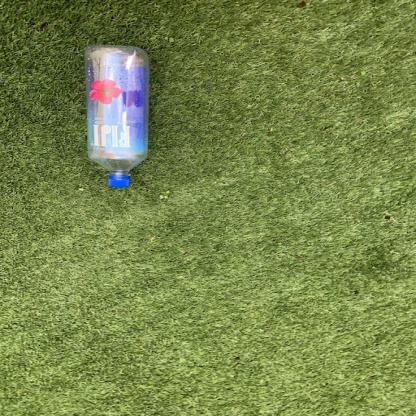trash: (88, 47, 148, 186)
